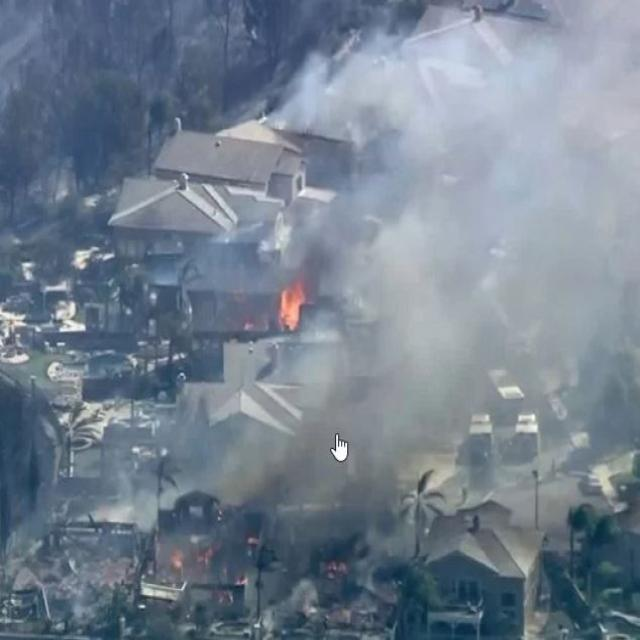Fire: (247, 293, 300, 357)
Smoke: (158, 16, 640, 508)
